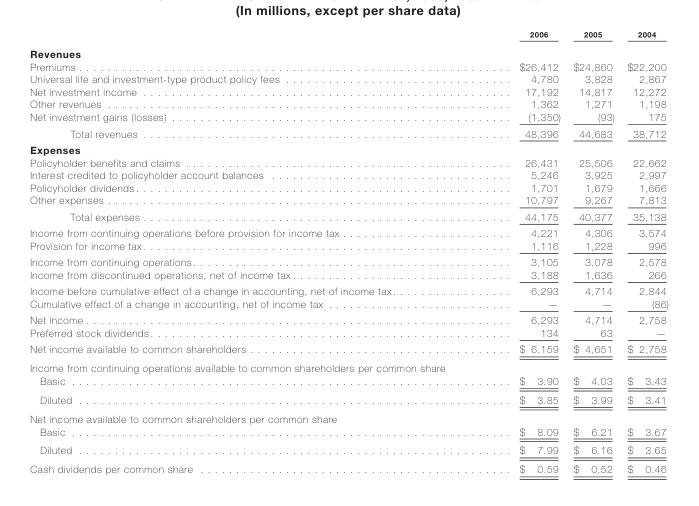table: (29, 29, 667, 474)
table column: (29, 29, 456, 474), (456, 29, 566, 474), (566, 29, 620, 474), (620, 29, 667, 474)
table column header: (29, 29, 667, 42)
table projected row header: (29, 42, 667, 59), (29, 358, 667, 374), (29, 408, 667, 424), (29, 140, 667, 155)
table row: (29, 389, 667, 408), (29, 440, 667, 459), (29, 340, 667, 358), (29, 42, 667, 59), (29, 124, 667, 140), (29, 208, 667, 224), (29, 358, 667, 374), (29, 408, 667, 424), (29, 424, 667, 440), (29, 140, 667, 155), (29, 193, 667, 208), (29, 224, 667, 239), (29, 253, 667, 268), (29, 282, 667, 297), (29, 311, 667, 326), (29, 374, 667, 389), (29, 459, 667, 474), (29, 110, 667, 124), (29, 239, 667, 253), (29, 268, 667, 282), (29, 297, 667, 311), (29, 326, 667, 340), (29, 29, 667, 42), (29, 59, 667, 72), (29, 72, 667, 85), (29, 97, 667, 110), (29, 155, 667, 168), (29, 180, 667, 193), (29, 85, 667, 97), (29, 168, 667, 180)
